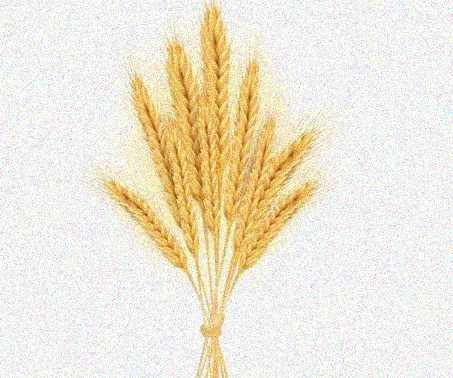wheat: (127, 63, 198, 265), (241, 113, 332, 261), (80, 163, 189, 277), (162, 21, 212, 241), (189, 1, 230, 243), (219, 48, 261, 235), (233, 106, 277, 245)
